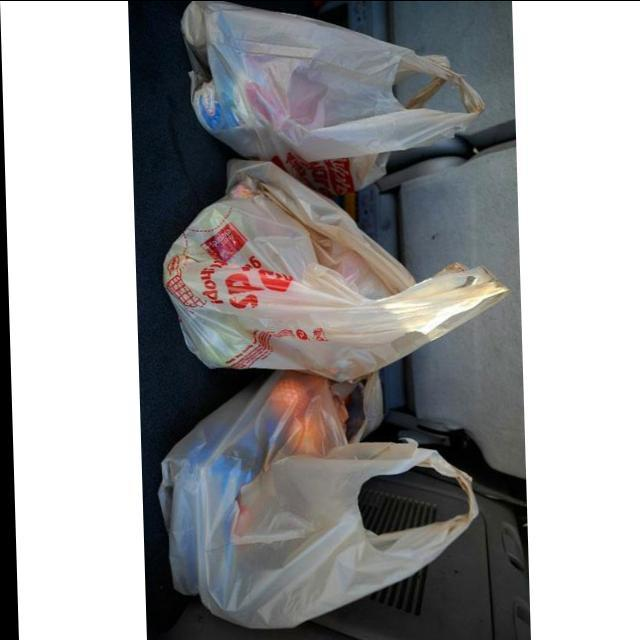Single-layer Plastic: (160, 371, 479, 629), (164, 160, 508, 381), (182, 2, 484, 160)
